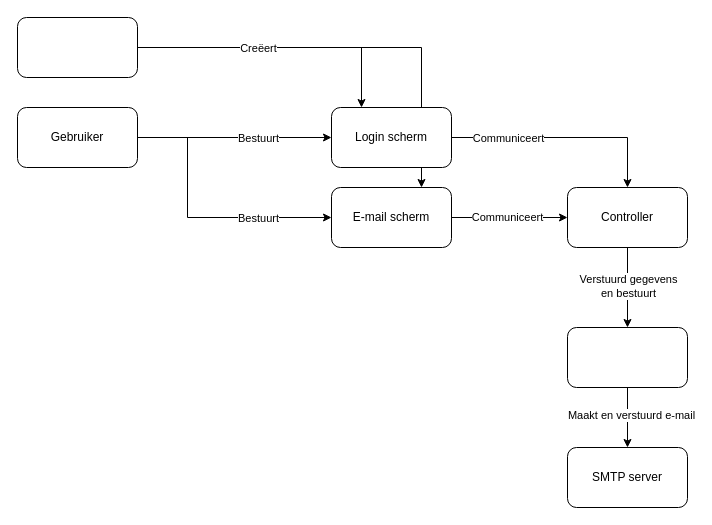
Some shapes in this 712 by 525 pixel diagram are drawn without their labels. The shapes that lost their labels are listed below. From the top down, each one's centre as x and y in pixels, then its label:
At point (77, 47): "View".
At point (627, 357): "Model".
